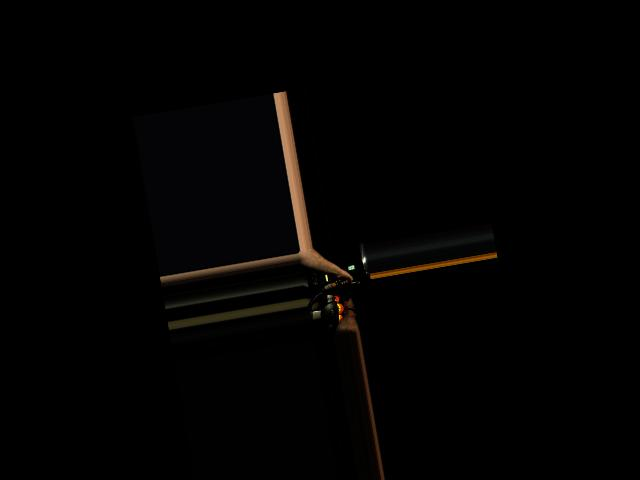beer: (319, 274, 354, 292)
